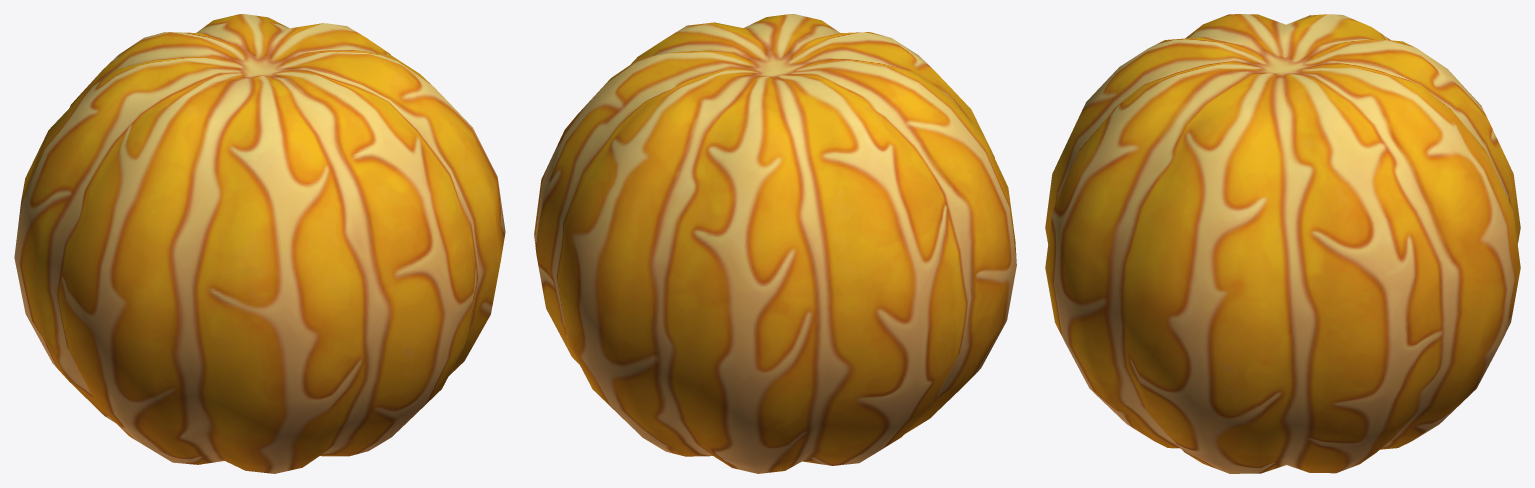
File: SM_TangerinePeeled.fbx
3 renders of one model, left to right at view 1: azimuth 30°, elevation 25°; view 2: azimuth 150°, elevation 25°; view 3: azimuth 270°, elevation 25°, orthographic.
Visible parts, largest first — view 1: SM_TangerinePeeled; view 2: SM_TangerinePeeled; view 3: SM_TangerinePeeled.
Part boxes in pixels (x1,y1,x2,y2): SM_TangerinePeeled: (14,14,505,473); SM_TangerinePeeled: (534,14,1016,473); SM_TangerinePeeled: (1045,14,1520,473).
Bounding box in the file's own units: 10.01 × 8.63 × 9.8.
